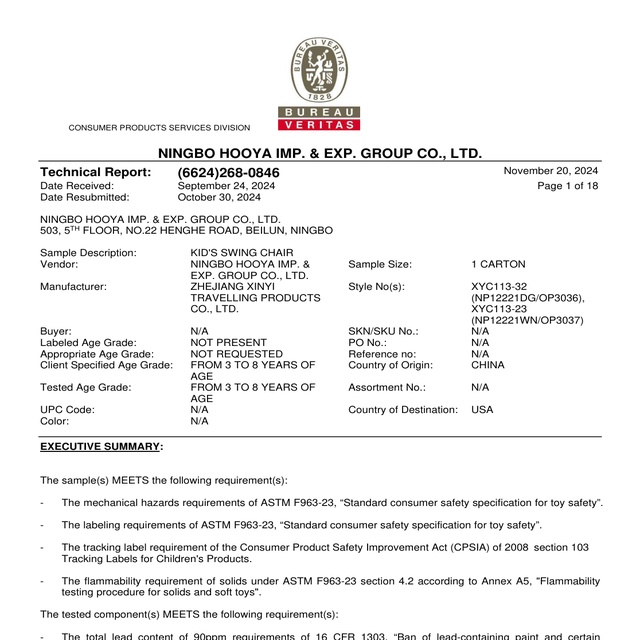bureau_veritas: (276, 35, 365, 136)
